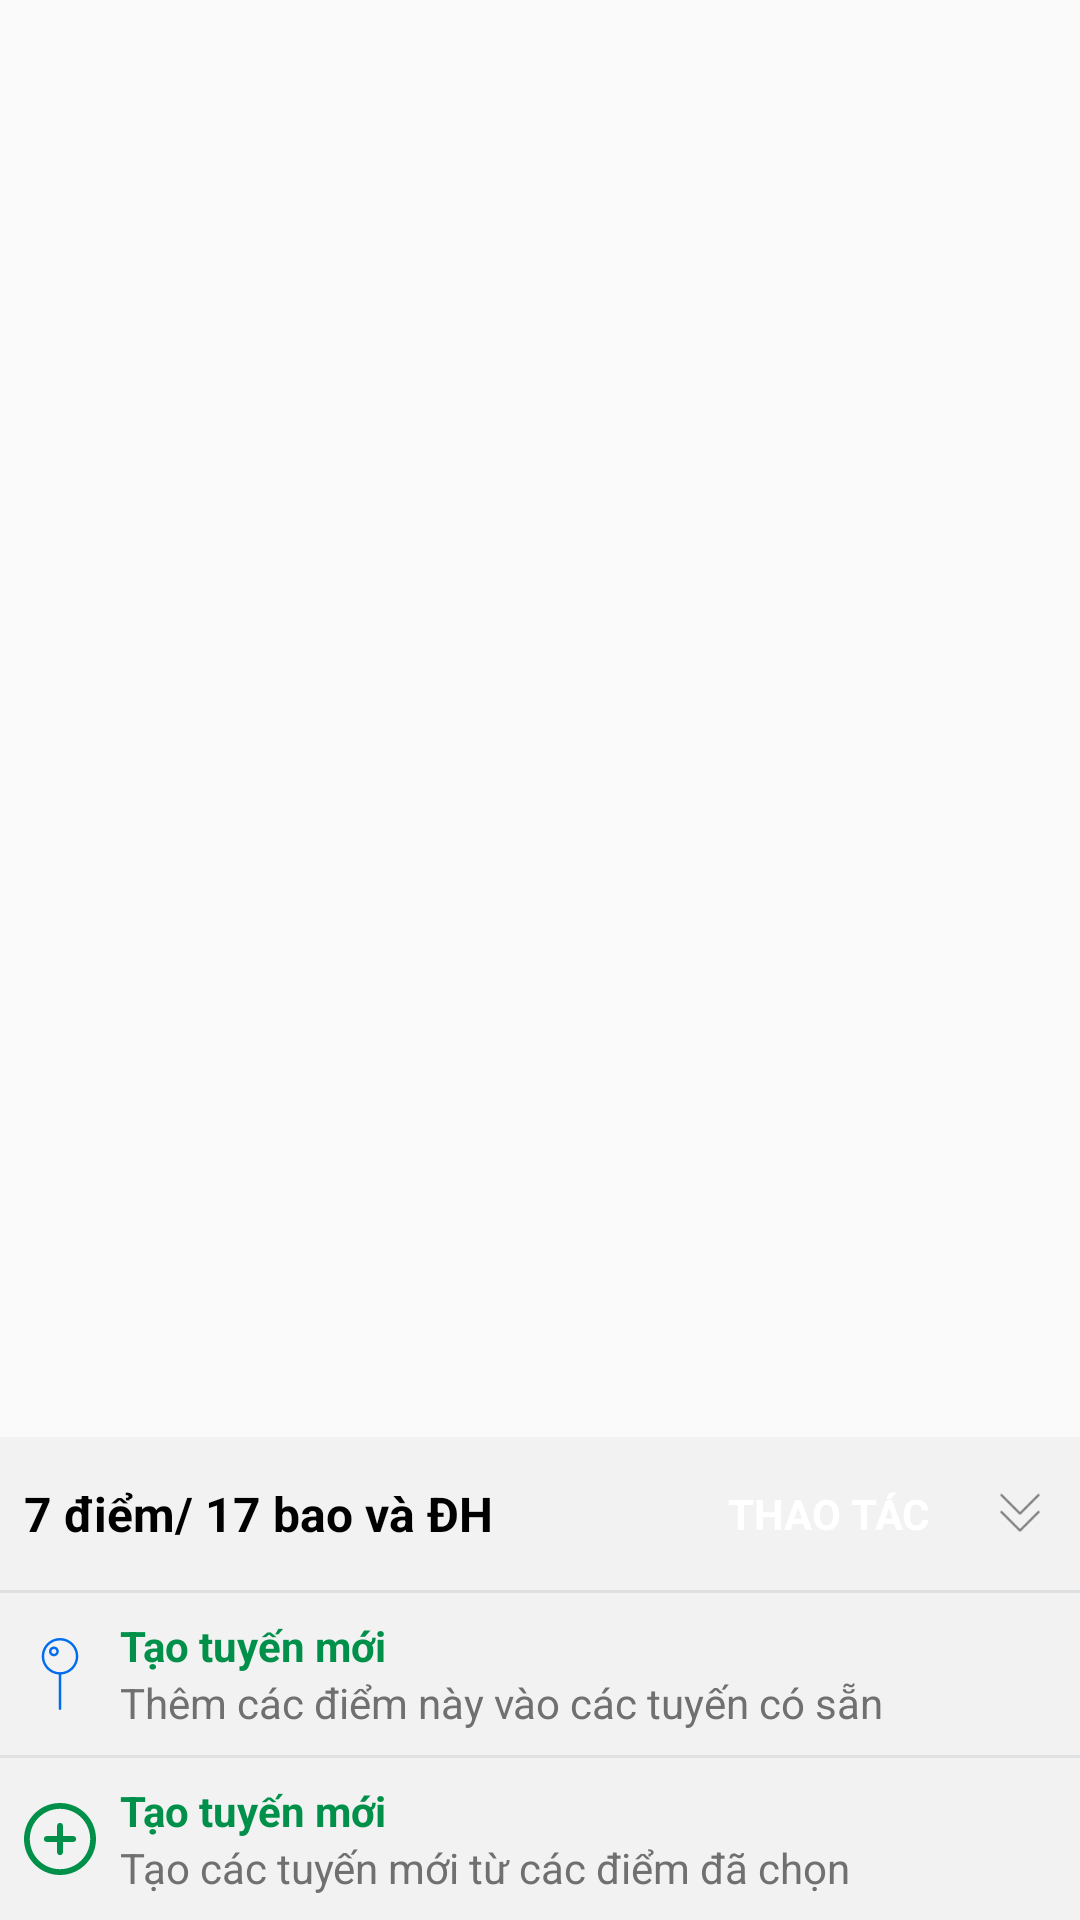

Where icons sit on this 1080x1920 app screen, as bbox=(x1, y1, x2, y2):
add popup: bbox=(24, 1803, 96, 1875)
double arrow down: bbox=(1000, 1494, 1040, 1532)
pin: bbox=(41, 1638, 79, 1710)
